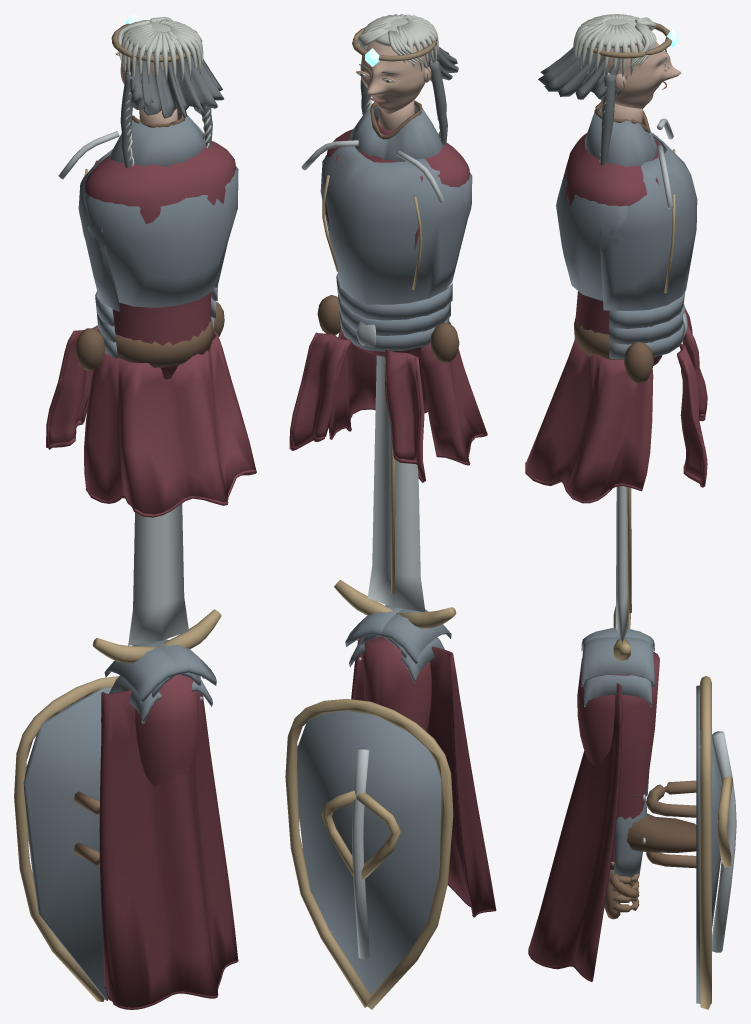
The model's file is vowkeeper.glb.
3 renders of one model, left to right at view 1: azimuth 30°, elevation 25°; view 2: azimuth 150°, elevation 25°; view 3: azimuth 270°, elevation 25°, orthographic. The views are drawn at different scales.
Visible parts, largest first — view 1: Body__wine, Cape__wine, ArmL__iron, Body__iron, Weapon__silver, ArmL__gold, Body__hair_shadow, Body__hair, Body__leather, LegL__wine, Weapon__gold, LegR__wine (+4 smaller); view 2: ArmL__iron, Body__iron, Body__wine, ArmL__gold, Cape__wine, Weapon__silver, Body__skin, LegL__wine, Body__hair, ArmL__silver, Weapon__gold, Body__leather (+7 smaller); view 3: Body__wine, Body__iron, Cape__wine, LegR__wine, ArmL__gold, ArmL__iron, ArmR__iron, Body__hair, Body__skin, ArmL__leather, Body__hair_shadow, ArmL__silver (+8 smaller).
Boxes of the visible parts, x1=… form: Body__wine: x1=46, y1=141, x2=256, y2=517; Cape__wine: x1=99, y1=676, x2=238, y2=1009; ArmL__iron: x1=23, y1=642, x2=200, y2=1000; Body__iron: x1=78, y1=110, x2=238, y2=358; Weapon__silver: x1=128, y1=503, x2=188, y2=645; ArmL__gold: x1=14, y1=676, x2=118, y2=1001; Body__hair_shadow: x1=124, y1=51, x2=223, y2=118; Body__hair: x1=117, y1=17, x2=203, y2=85; Body__leather: x1=75, y1=108, x2=224, y2=370; LegL__wine: x1=135, y1=674, x2=190, y2=786; Weapon__gold: x1=92, y1=609, x2=221, y2=663; LegR__wine: x1=163, y1=679, x2=198, y2=774; ArmL__iron: x1=297, y1=609, x2=451, y2=994; Body__iron: x1=320, y1=104, x2=472, y2=351; Body__wine: x1=289, y1=119, x2=487, y2=482; ArmL__gold: x1=285, y1=698, x2=453, y2=1009; Cape__wine: x1=351, y1=637, x2=496, y2=917; Weapon__silver: x1=367, y1=355, x2=425, y2=612; Body__skin: x1=356, y1=41, x2=431, y2=130; LegL__wine: x1=365, y1=636, x2=431, y2=731; Body__hair: x1=357, y1=14, x2=438, y2=71; ArmL__silver: x1=352, y1=748, x2=370, y2=959; Weapon__gold: x1=334, y1=435, x2=456, y2=628; Body__leather: x1=317, y1=100, x2=459, y2=362; Body__wine: x1=525, y1=133, x2=707, y2=503; Body__iron: x1=556, y1=107, x2=697, y2=359; Cape__wine: x1=528, y1=683, x2=622, y2=981; LegR__wine: x1=577, y1=651, x2=659, y2=817; ArmL__gold: x1=700, y1=676, x2=732, y2=1009; ArmL__iron: x1=581, y1=628, x2=721, y2=1003; ArmR__iron: x1=581, y1=637, x2=654, y2=706; Body__hair: x1=572, y1=14, x2=656, y2=76; Body__skin: x1=599, y1=41, x2=680, y2=123; ArmL__leather: x1=604, y1=780, x2=696, y2=919; Body__hair_shadow: x1=538, y1=43, x2=666, y2=99; ArmL__silver: x1=712, y1=731, x2=736, y2=952.
Size of the model in its own units: 0.581 by 3.14 by 0.6061.
